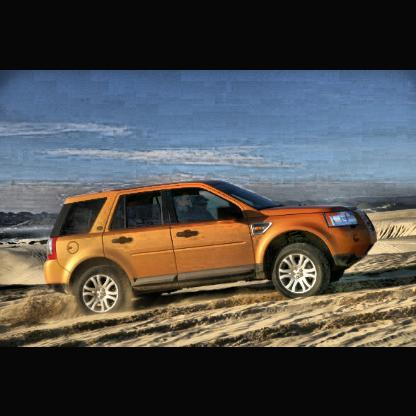Land Rover LR2 SUV 2012: (44, 182, 379, 317)
